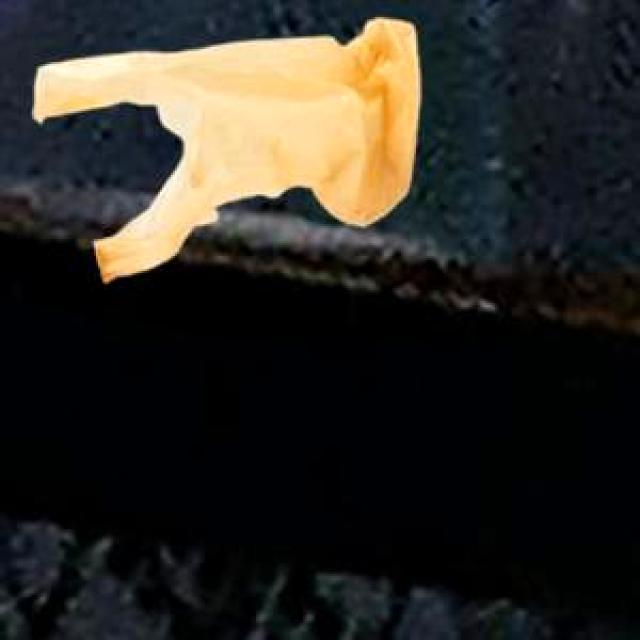Plastic_Bag: (31, 15, 417, 278)
